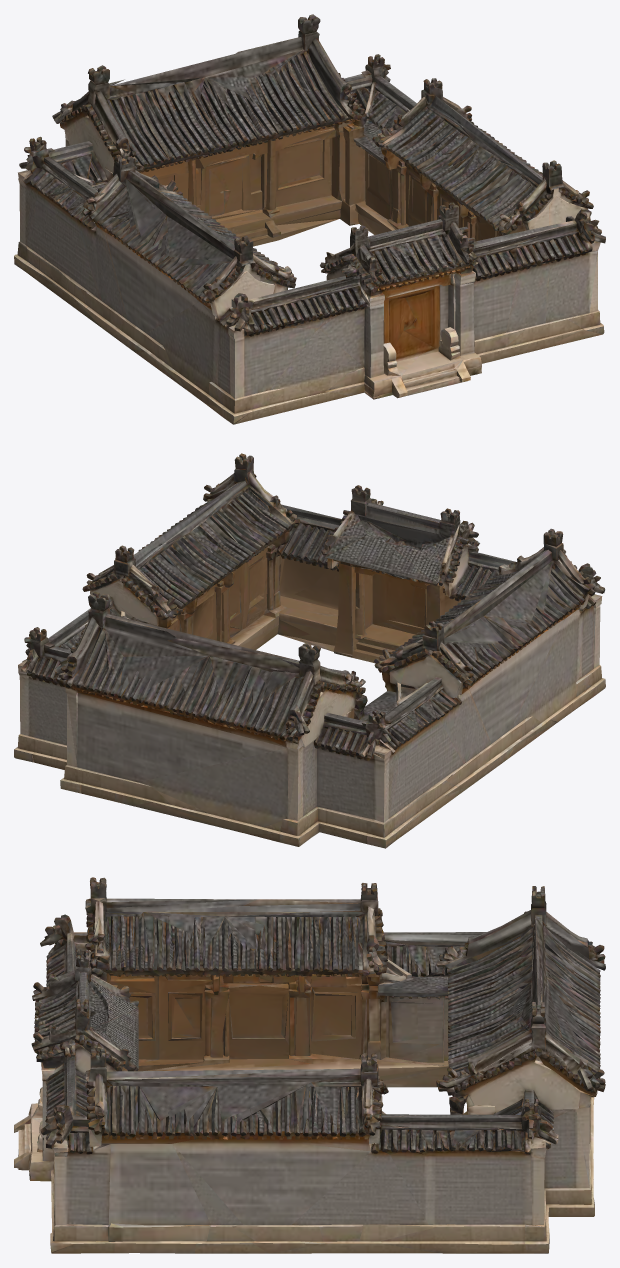
File: upm_mv3pq0qq6p4.glb
3 views of the same model, one above another, from view 1: azimuth 30°, elevation 25°; view 2: azimuth 150°, elevation 25°; view 3: azimuth 270°, elevation 25° (orthographic). The views are drawn at different scales.
Bounding box in the file's own units: 1.64 × 0.721 × 1.9.
1 material, 1 textured.
